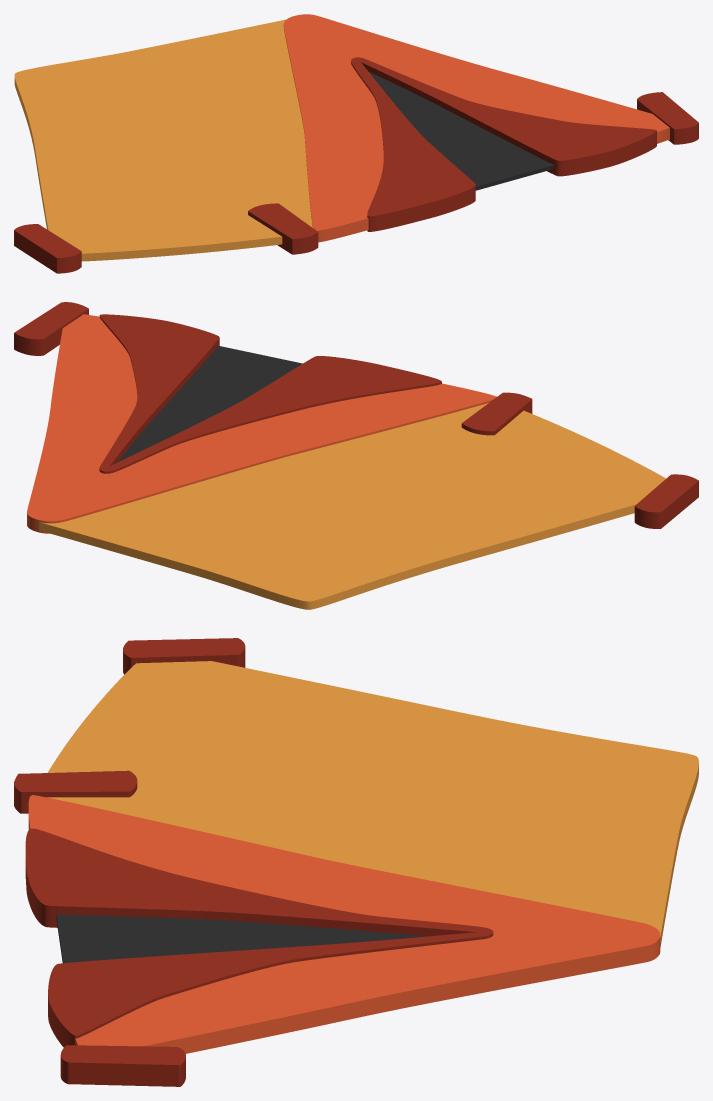
The model's file is emoji_u26fa.glb.
The picture shows the model from 3 angles, top to bottom: view 1: azimuth 30°, elevation 25°; view 2: azimuth 150°, elevation 25°; view 3: azimuth 270°, elevation 25°; orthographic projection. The views are drawn at different scales.
Visible parts, largest first — view 1: emoji_u26fa; view 2: emoji_u26fa; view 3: emoji_u26fa.
Part boxes in pixels (bbox=[...]): emoji_u26fa: bbox=[14, 14, 698, 273]; emoji_u26fa: bbox=[14, 302, 698, 609]; emoji_u26fa: bbox=[14, 638, 698, 1086].
Bounding box in the file's own units: 0.0337 × 0.0008 × 0.0229.
